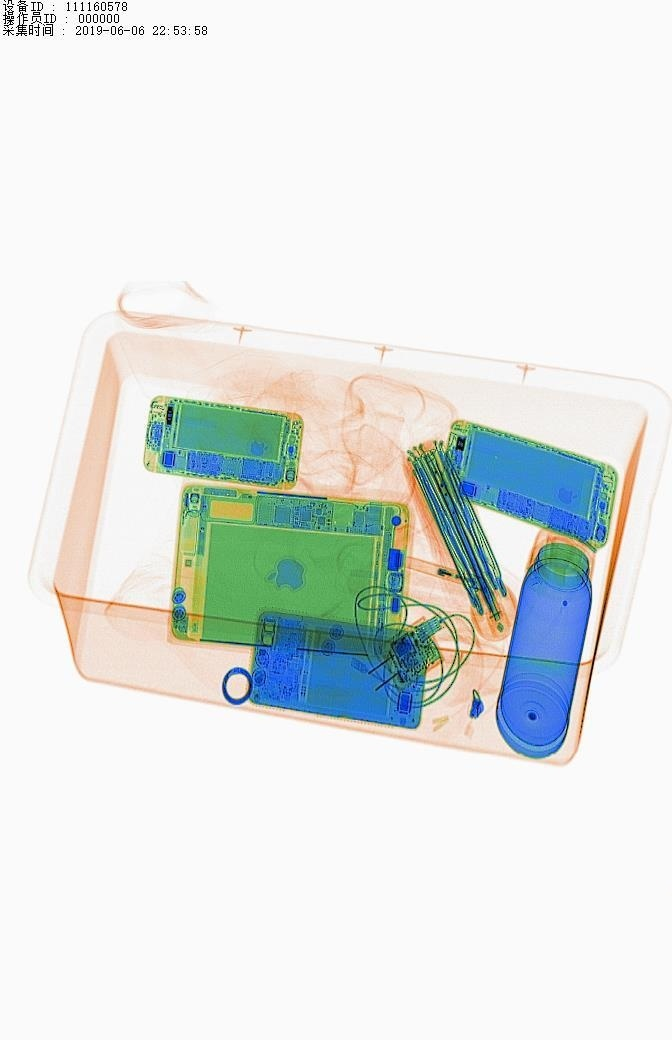NonmetallicFire: (391, 544, 507, 617)
